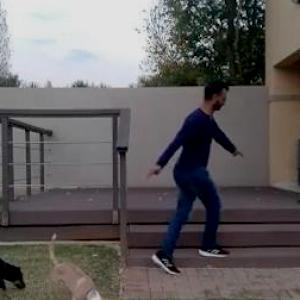land: (105, 70, 251, 282)
